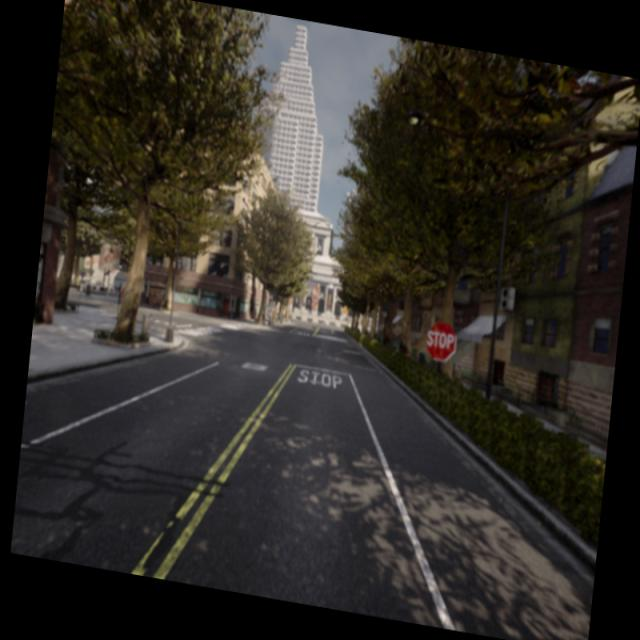stop sign: (424, 318, 458, 364)
